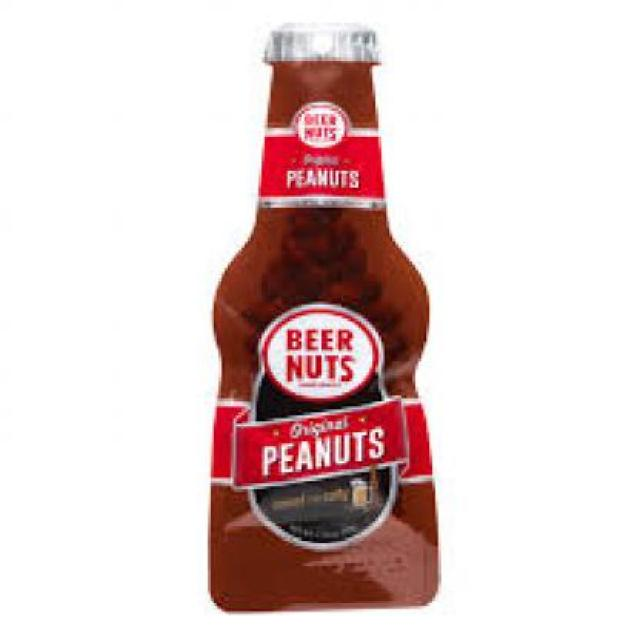GLASS: (204, 59, 442, 608)
METAL: (258, 22, 376, 55)
